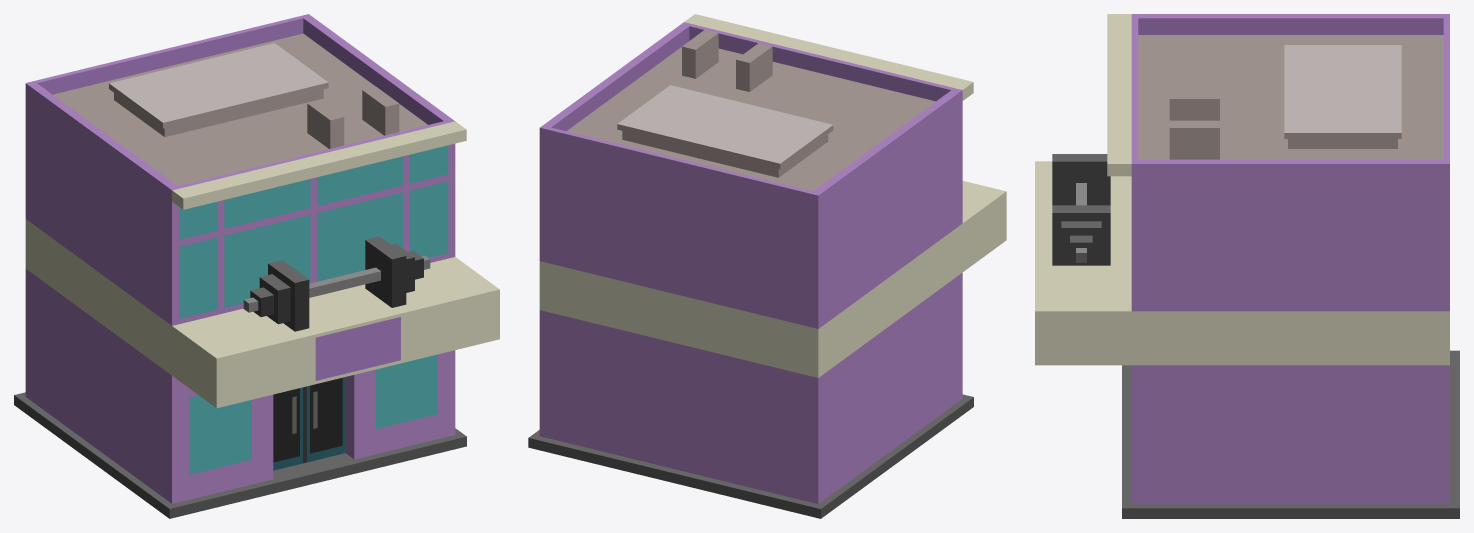
Rendered from city_07.FBX.
3 views of the same model, side by side, from view 1: azimuth 30°, elevation 25°; view 2: azimuth 150°, elevation 25°; view 3: azimuth 270°, elevation 25° (orthographic). The views are drawn at different scales.
Parts seen in each view (by area): view 1: city_02; view 2: city_02; view 3: city_02.
Part boxes in pixels (x1,y1,x2,y2): city_02: (14, 14, 499, 518); city_02: (528, 14, 1006, 518); city_02: (1035, 14, 1459, 518).
Size of the model in its own units: 1676 by 1821 by 1912.
